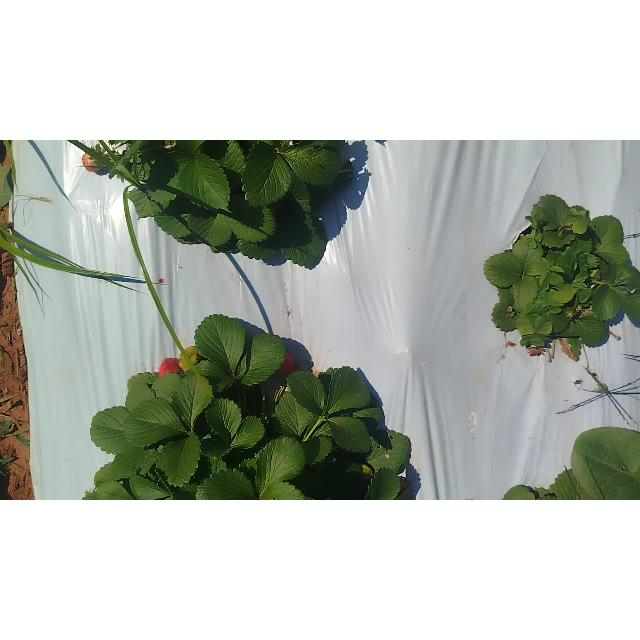maduro: (158, 358, 182, 376), (280, 352, 294, 378)
no-maduro: (179, 346, 197, 372)
semi-maduro: (82, 153, 101, 171)
